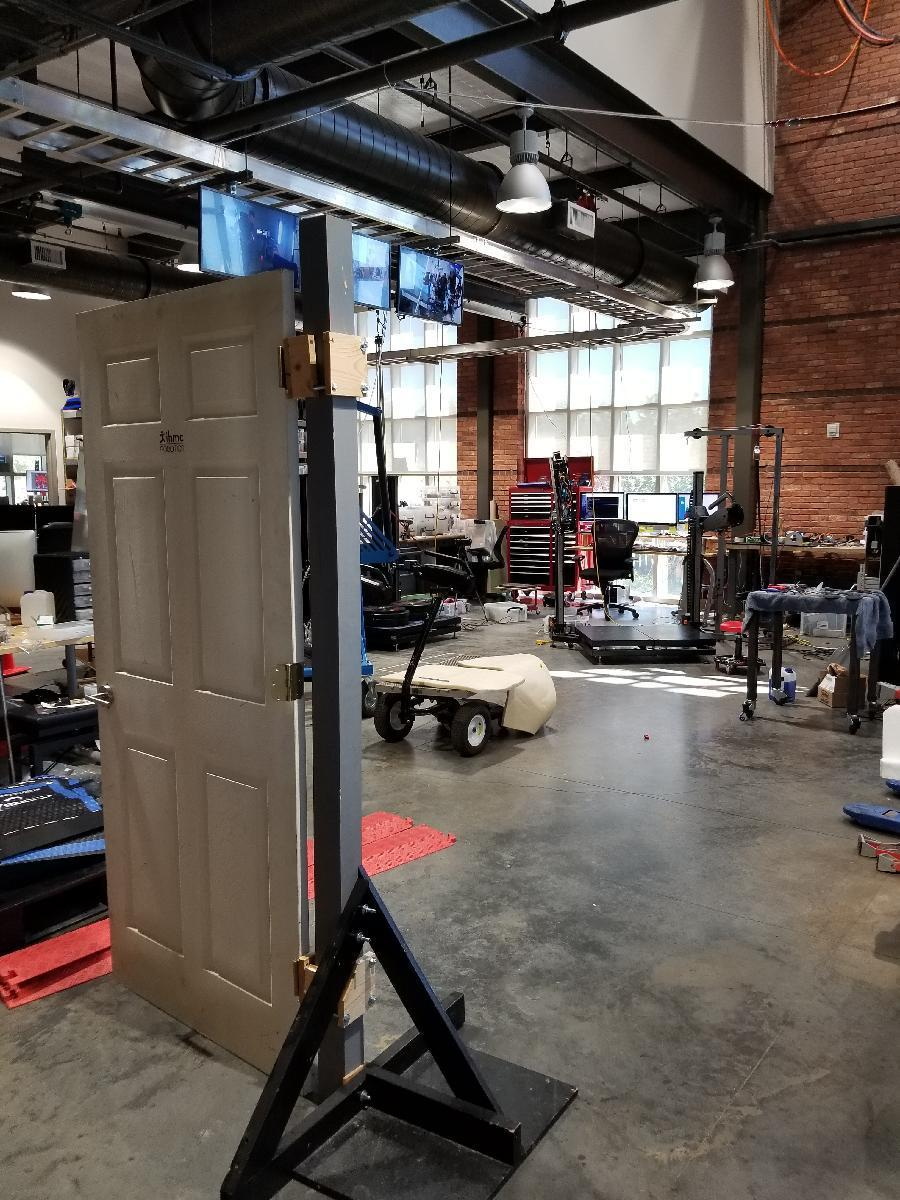door: (78, 268, 330, 1073)
handle: (88, 678, 120, 713)
